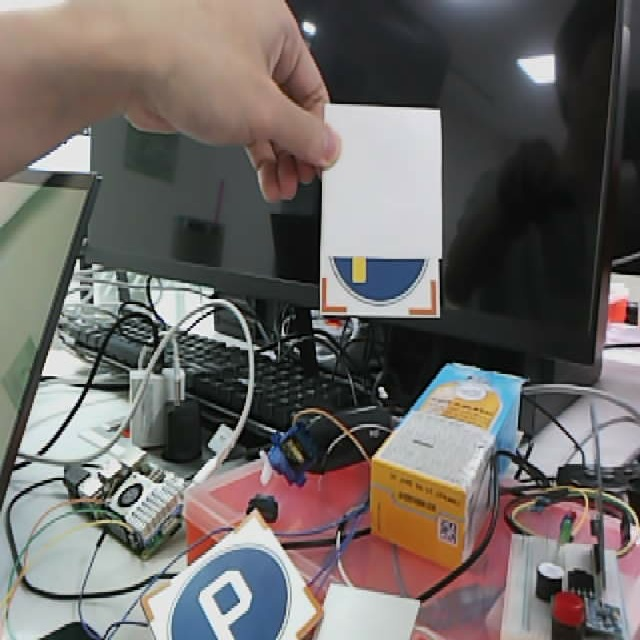right: (319, 194, 438, 317)
